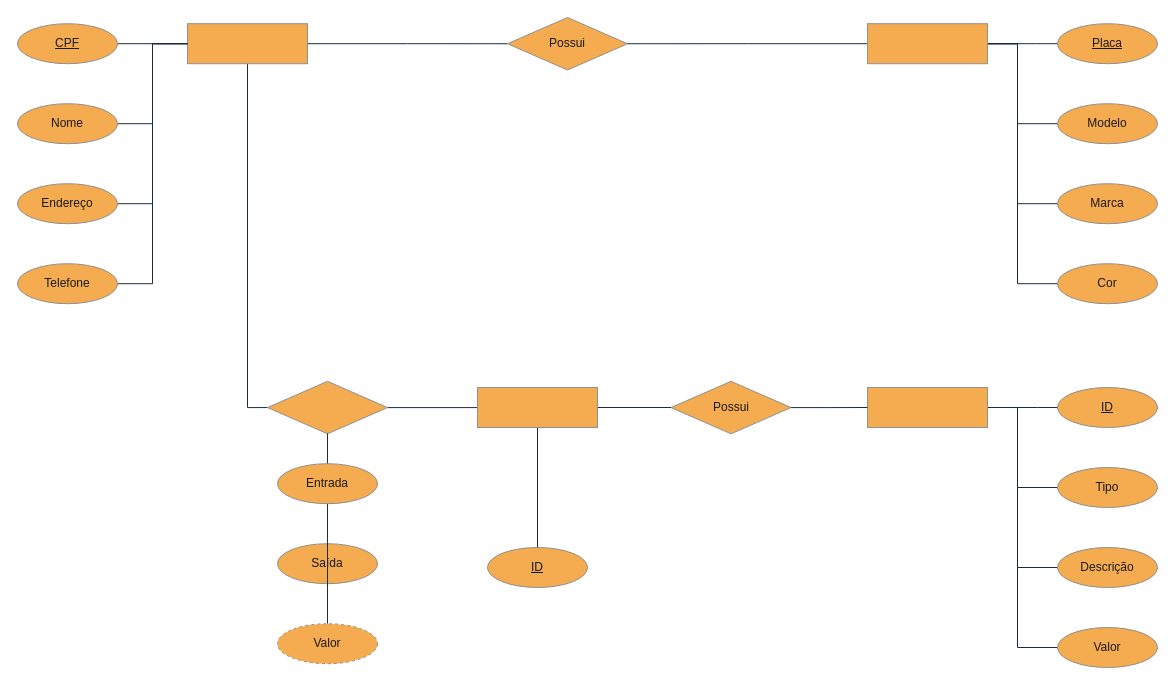
Image size: 1176x685. Some labels were removed from this diagram. Each missing label, with the centre of its shape:
"Carro" goes at (x=927, y=43).
"Cliente" goes at (x=247, y=43).
"Estaciona" goes at (x=327, y=407).
"Estacionamento" goes at (x=537, y=407).
"Vagas" goes at (x=927, y=407).
